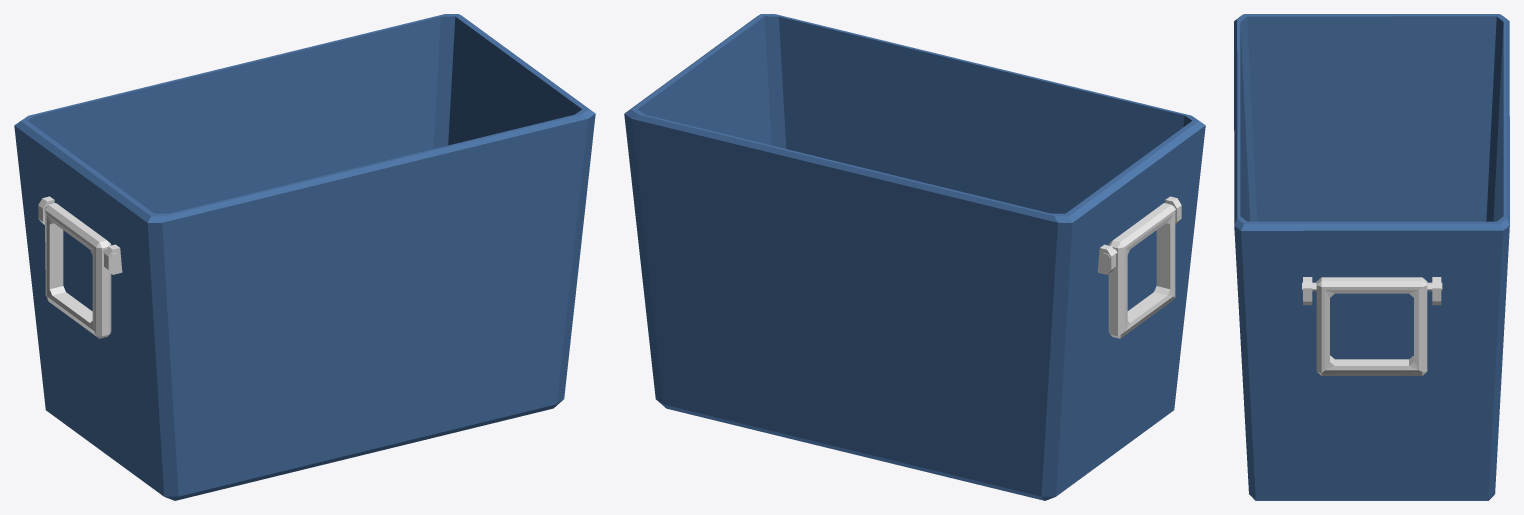
Rendered from Cooler_01.fbx.
The picture shows the model from 3 angles, left to right: view 1: azimuth 30°, elevation 25°; view 2: azimuth 150°, elevation 25°; view 3: azimuth 270°, elevation 25°; orthographic projection.
Visible parts, largest first — view 1: Cooler_01; view 2: Cooler_01; view 3: Cooler_01.
Part boxes in pixels (x1,y1,x2,y2): Cooler_01: [14, 14, 595, 500]; Cooler_01: [624, 14, 1205, 500]; Cooler_01: [1234, 14, 1509, 500].
Size of the model in its own units: 65.83 by 39.72 by 34.11.
